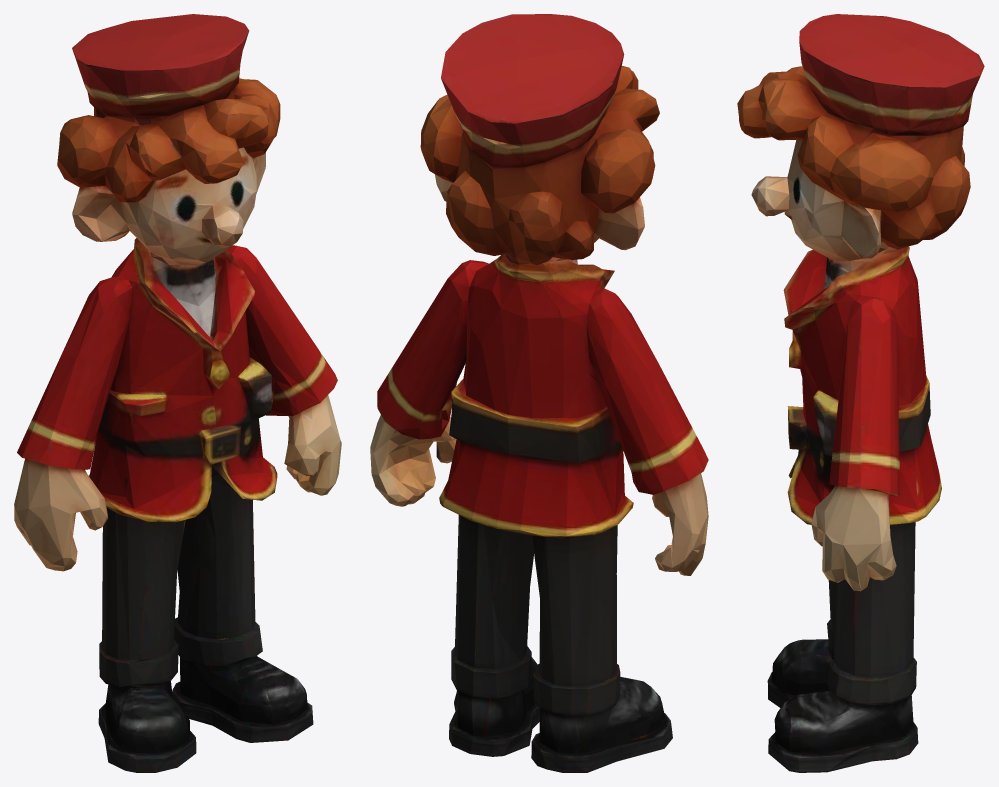
The model's file is pip.glb.
3 renders of one model, left to right at view 1: azimuth 30°, elevation 25°; view 2: azimuth 150°, elevation 25°; view 3: azimuth 270°, elevation 25°, orthographic. The views are drawn at different scales.
Parts seen in each view (by area): view 1: geometry_0; view 2: geometry_0; view 3: geometry_0.
Boxes of the visible parts, x1,y1,x2,y2 form: geometry_0: (14, 14, 341, 772); geometry_0: (370, 14, 708, 772); geometry_0: (737, 14, 984, 772).
Bounding box in the file's own units: 0.482 × 0.9995 × 0.3278.
1 material, 1 textured.
